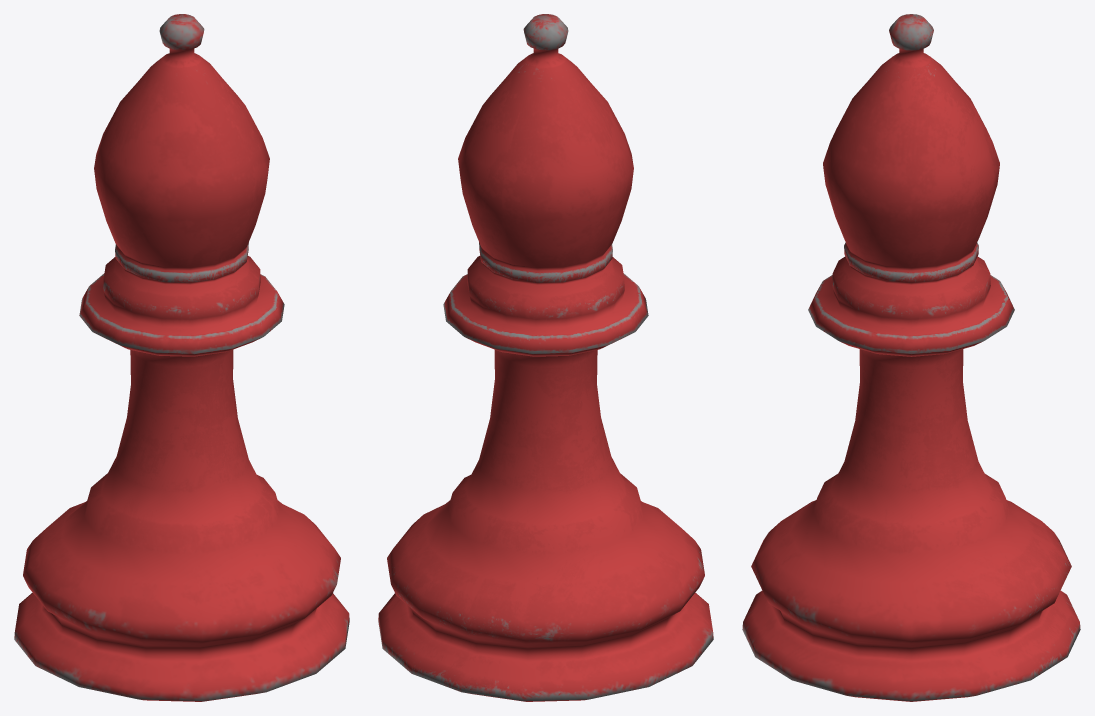
The model's file is bishop.glb.
The picture shows the model from 3 angles, left to right: view 1: azimuth 30°, elevation 25°; view 2: azimuth 150°, elevation 25°; view 3: azimuth 270°, elevation 25°; orthographic projection.
Visible parts, largest first — view 1: bishop.b.001; view 2: bishop.b.001; view 3: bishop.b.001.
Boxes of the visible parts, x1=… form: bishop.b.001: x1=14, y1=14, x2=349, y2=701; bishop.b.001: x1=378, y1=14, x2=713, y2=701; bishop.b.001: x1=742, y1=14, x2=1080, y2=701.
Size of the model in its own units: 1.24 by 2.54 by 1.24.
Materials: 1 (1 with a texture image).
